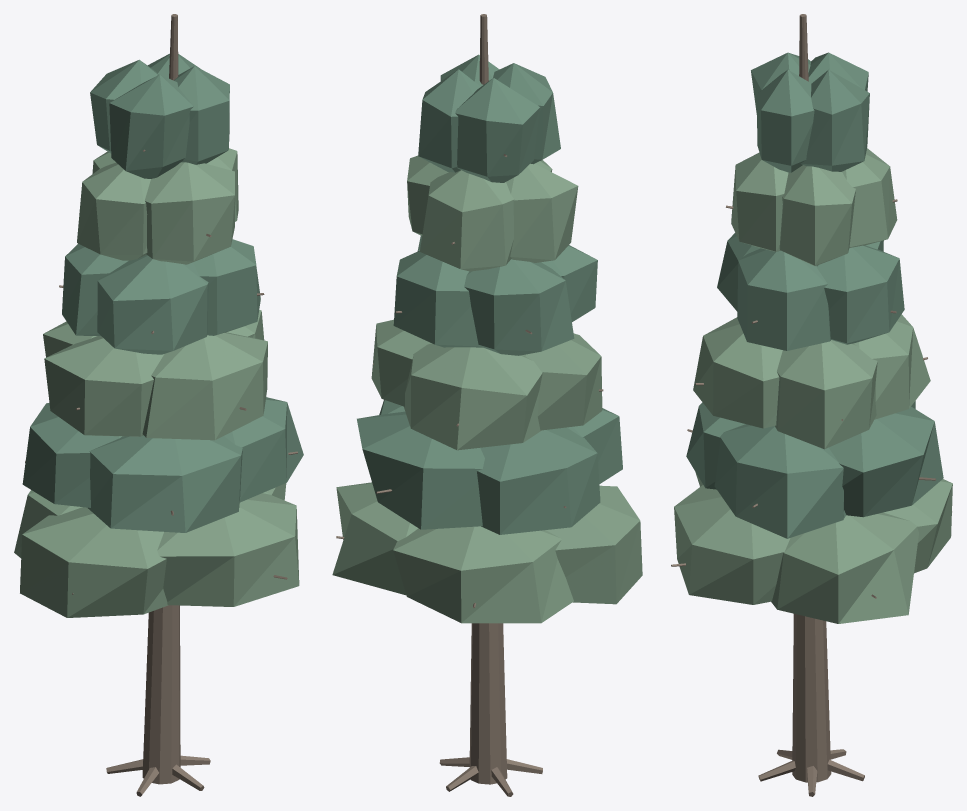
3 renders of one model, left to right at view 1: azimuth 30°, elevation 25°; view 2: azimuth 150°, elevation 25°; view 3: azimuth 270°, elevation 25°, orthographic.
Bounding box in the file's own units: 9.3 × 24.61 × 8.23.
